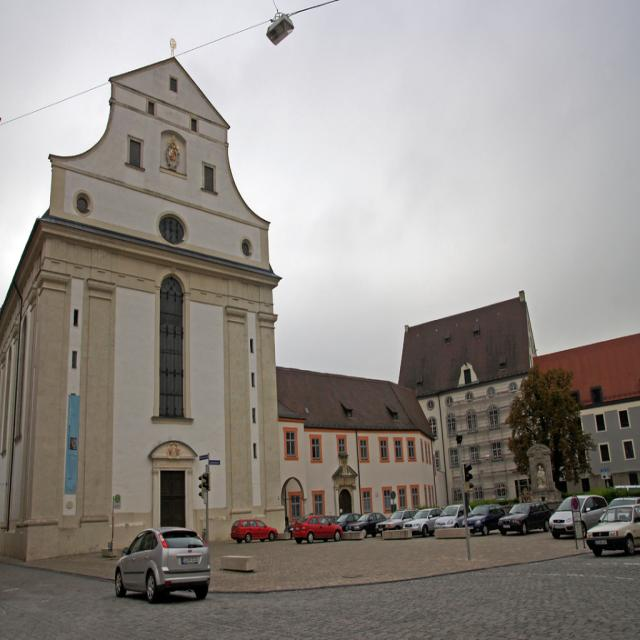car: (113, 532, 207, 602), (579, 499, 639, 550), (544, 491, 608, 537), (497, 497, 551, 528), (596, 487, 639, 518), (465, 505, 505, 537), (405, 505, 446, 535), (290, 514, 340, 538), (225, 518, 278, 538), (432, 504, 472, 528), (346, 514, 385, 537), (376, 506, 410, 528), (332, 511, 356, 531)
